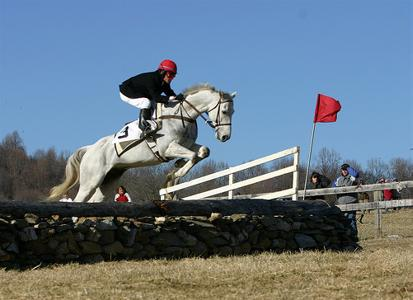person: (118, 59, 180, 141)
